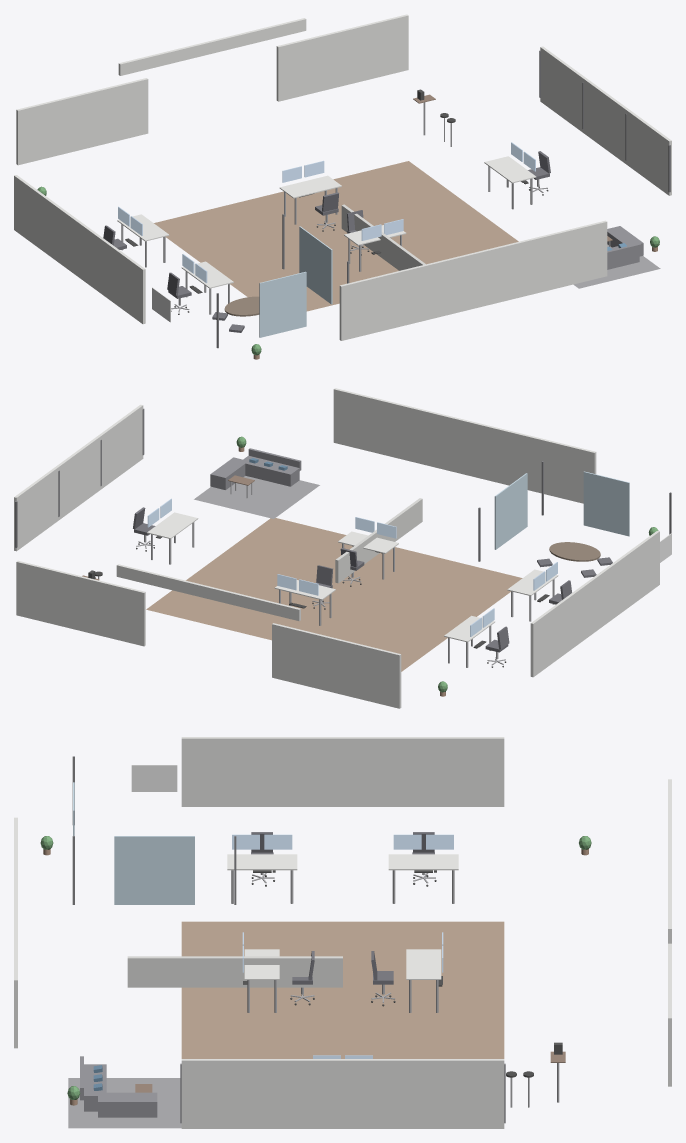
File: office_v8.glb
3 views of the same model, one above another, from view 1: azimuth 30°, elevation 25°; view 2: azimuth 150°, elevation 25°; view 3: azimuth 270°, elevation 25° (orthographic). The views are drawn at different scales.
Visible parts, largest first — view 1: Floor, Back_Wall, Left_Wall, Front_Wall_Left, Front_Wall_Right, Right_Wall, Meeting_Glass_Front, Front_Wall_Top, Meeting_Glass_Right, Partition_Office_Lounge, Carpet, Desktop_4 (+4 smaller); view 2: Floor, Back_Wall, Left_Wall, Front_Wall_Right, Front_Wall_Left, Right_Wall, Carpet, Meeting_Glass_Front, Front_Wall_Top, Meeting_Glass_Right, Partition_Office_Lounge, Sofa_Main (+6 smaller); view 3: Floor, Left_Wall, Right_Wall, Partition_Office_Lounge, Meeting_Glass_Right, Carpet, Sofa_Side, Whiteboard, Desktop_2, Desktop_1, Desktop_4, Back_Wall (+2 smaller).
Boxes of the visible parts, x1=… form: Floor: x1=154, y1=161, x2=518, y2=311; Back_Wall: x1=339, y1=220, x2=607, y2=340; Left_Wall: x1=14, y1=175, x2=145, y2=324; Front_Wall_Left: x1=16, y1=78, x2=148, y2=165; Front_Wall_Right: x1=276, y1=14, x2=408, y2=101; Right_Wall: x1=540, y1=46, x2=671, y2=195; Meeting_Glass_Front: x1=259, y1=271, x2=306, y2=337; Front_Wall_Top: x1=118, y1=18, x2=306, y2=75; Meeting_Glass_Right: x1=299, y1=226, x2=332, y2=304; Partition_Office_Lounge: x1=341, y1=204, x2=425, y2=270; Carpet: x1=573, y1=244, x2=660, y2=288; Desktop_4: x1=279, y1=175, x2=341, y2=198; Floor: x1=146, y1=518, x2=522, y2=671; Back_Wall: x1=333, y1=388, x2=596, y2=503; Left_Wall: x1=530, y1=530, x2=659, y2=677; Front_Wall_Right: x1=16, y1=560, x2=145, y2=646; Front_Wall_Left: x1=272, y1=623, x2=401, y2=708; Right_Wall: x1=14, y1=404, x2=143, y2=551; Carpet: x1=194, y1=476, x2=319, y2=518; Meeting_Glass_Front: x1=583, y1=471, x2=629, y2=536; Front_Wall_Top: x1=116, y1=564, x2=300, y2=621; Meeting_Glass_Right: x1=494, y1=473, x2=527, y2=549; Partition_Office_Lounge: x1=335, y1=498, x2=422, y2=583; Sofa_Main: x1=240, y1=455, x2=299, y2=486; Floor: x1=181, y1=921, x2=504, y2=1058; Left_Wall: x1=181, y1=737, x2=504, y2=806; Right_Wall: x1=181, y1=1059, x2=504, y2=1128; Partition_Office_Lounge: x1=127, y1=956, x2=342, y2=987; Meeting_Glass_Right: x1=114, y1=836, x2=194, y2=904; Carpet: x1=68, y1=1078, x2=181, y2=1128; Sofa_Side: x1=98, y1=1092, x2=157, y2=1117; Whiteboard: x1=131, y1=765, x2=177, y2=791; Desktop_2: x1=388, y1=854, x2=458, y2=870; Desktop_1: x1=227, y1=854, x2=297, y2=870; Desktop_4: x1=406, y1=949, x2=441, y2=979; Back_Wall: x1=14, y1=817, x2=17, y2=1048.
Bounding box in the file's own units: 14.22 × 2.65 × 12.22.
